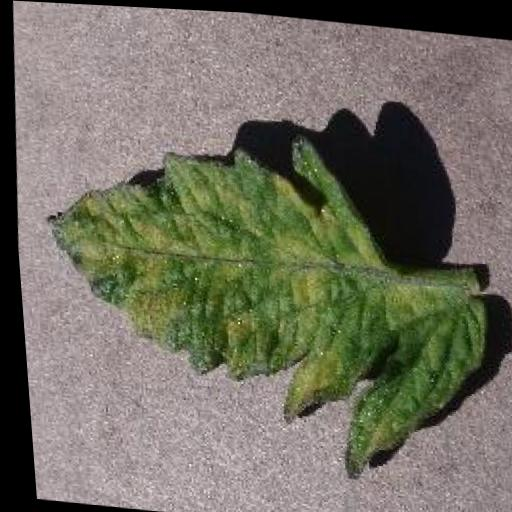Leaf Mold: (21, 109, 501, 492)
